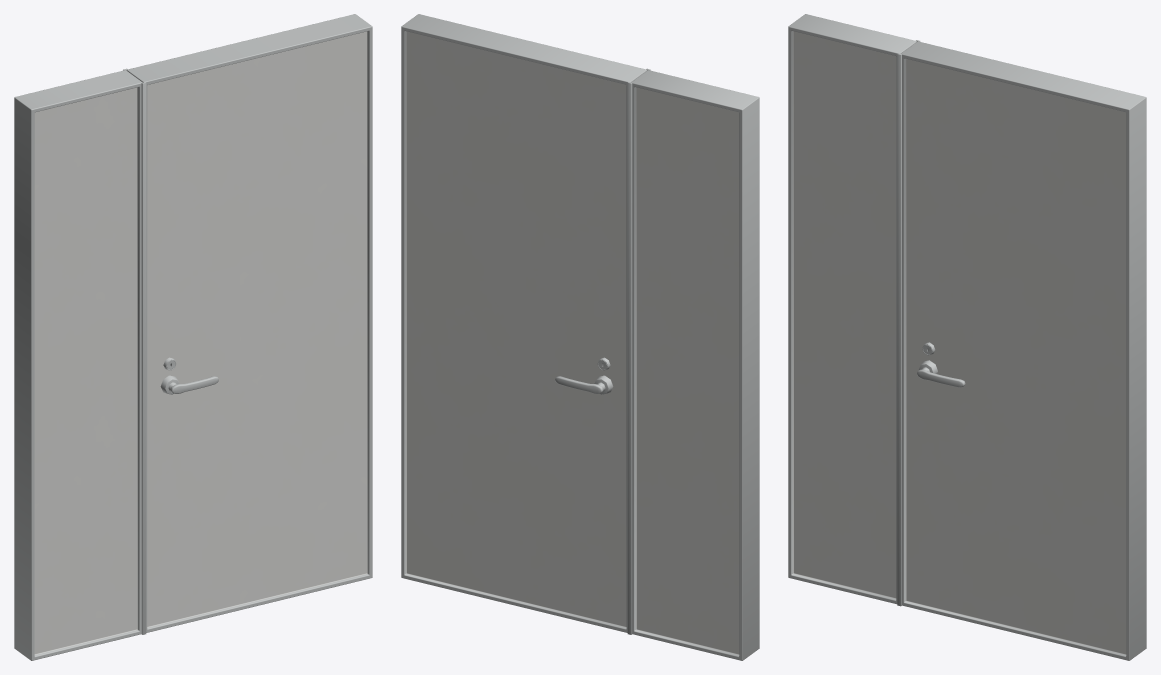
File: Door_A.fbx
The picture shows the model from 3 angles, left to right: view 1: azimuth 30°, elevation 25°; view 2: azimuth 150°, elevation 25°; view 3: azimuth 330°, elevation 25°; orthographic projection.
Parts seen in each view (by area): view 1: Door_A_right, Door_A_left; view 2: Door_A_right, Door_A_left; view 3: Door_A_right, Door_A_left.
Boxes of the visible parts, bbox=[...] form: Door_A_right: bbox=[123, 14, 372, 634]; Door_A_left: bbox=[14, 70, 142, 660]; Door_A_right: bbox=[401, 14, 650, 634]; Door_A_left: bbox=[631, 70, 759, 660]; Door_A_right: bbox=[897, 40, 1146, 660]; Door_A_left: bbox=[788, 14, 916, 604].
Size of the model in its own units: 1.75 by 2.7 by 0.279.
